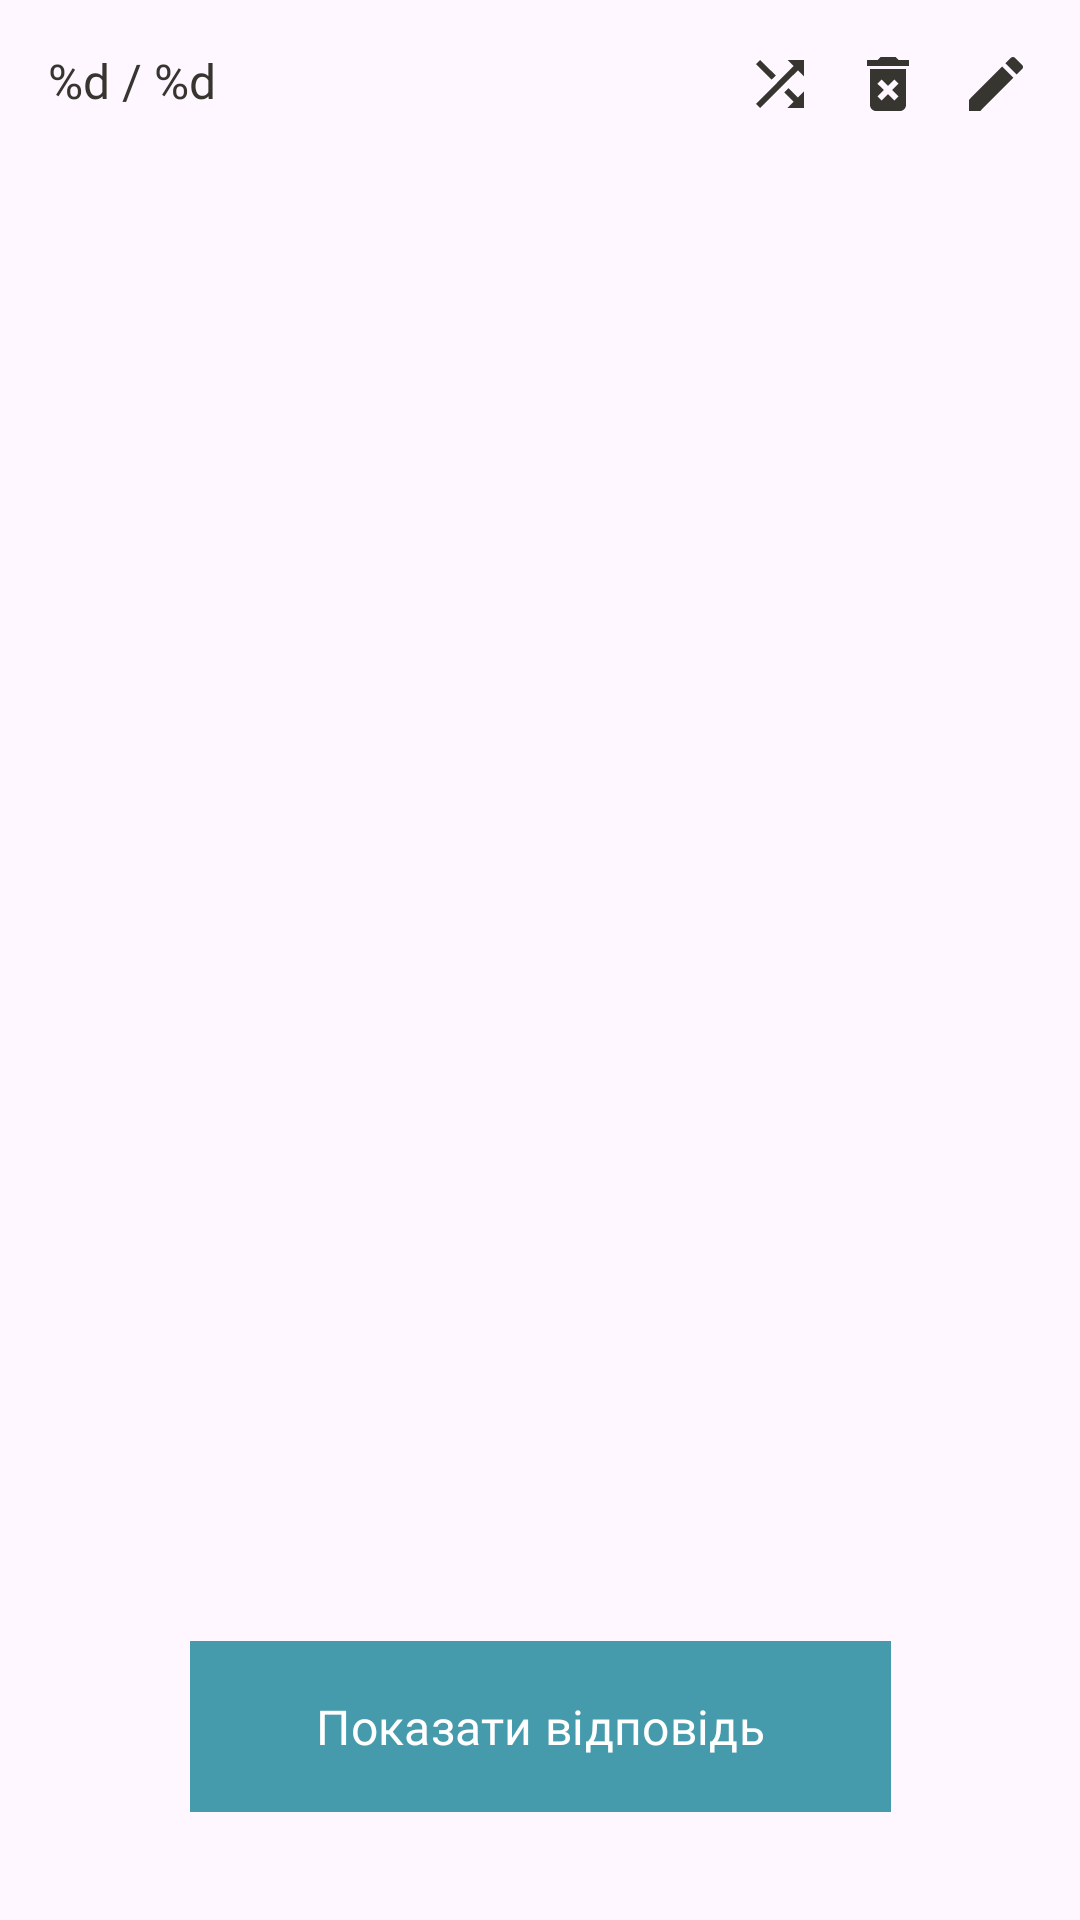

Icon bounding boxes for this 1080 x 1920 phone screenshot, format box(x1, y1, x2, y2):
Кнопка видалення: box(867, 57, 909, 111)
Кнопка перемішування запитань: box(756, 60, 804, 108)
Кнопка редагування запитання: box(969, 57, 1023, 111)
